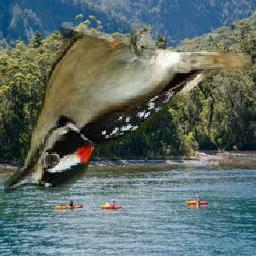Woodpecker: (4, 22, 252, 200)
